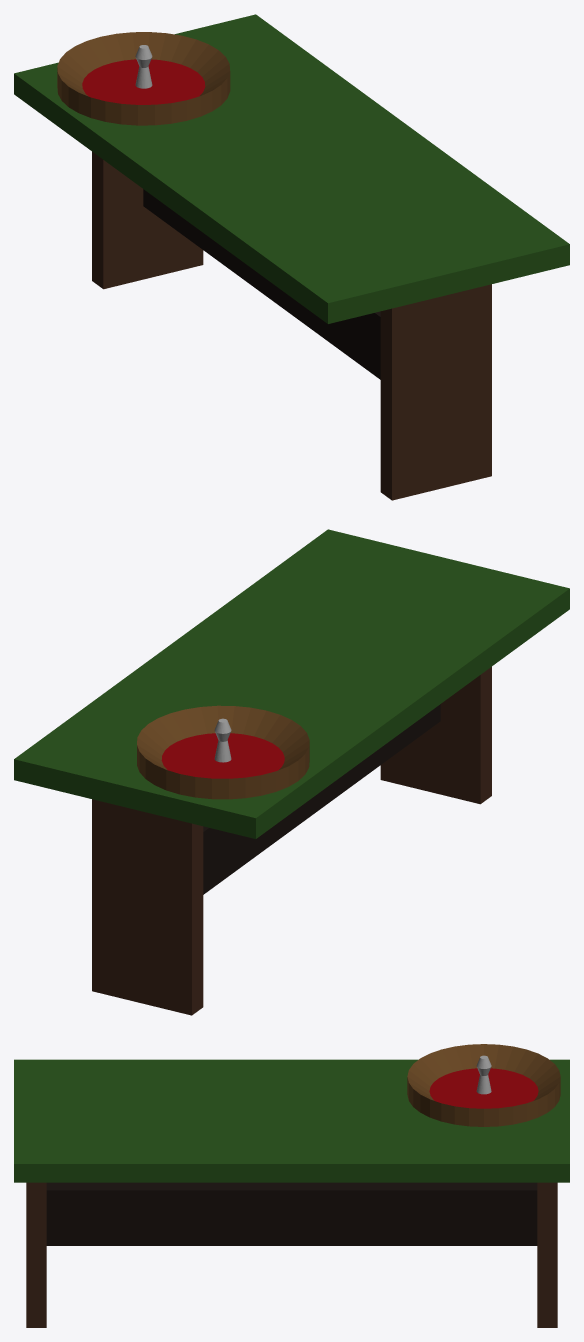
The model's file is RouletteTableWIP.fbx.
The picture shows the model from 3 angles, top to bottom: view 1: azimuth 30°, elevation 25°; view 2: azimuth 150°, elevation 25°; view 3: azimuth 270°, elevation 25°; orthographic projection. The views are drawn at different scales.
Parts seen in each view (by area): view 1: Cube; view 2: Cube; view 3: Cube.
Boxes of the visible parts, x1=… form: Cube: x1=14, y1=14, x2=569, y2=500; Cube: x1=14, y1=529, x2=569, y2=1015; Cube: x1=14, y1=1044, x2=569, y2=1327.
Size of the model in its own units: 169 by 175 by 380.
